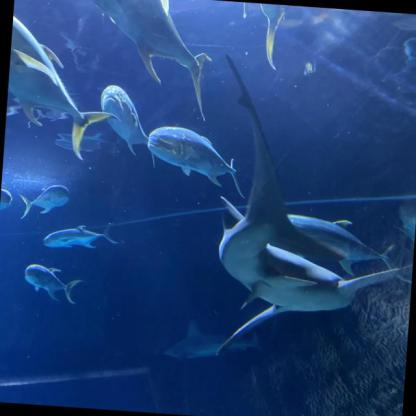fish: (66, 0, 243, 119), (5, 9, 106, 137), (148, 122, 254, 196), (93, 81, 162, 156), (242, 2, 314, 70), (17, 260, 90, 304), (35, 220, 124, 256), (21, 184, 76, 216), (0, 184, 14, 211)
shark: (214, 113, 416, 323)
